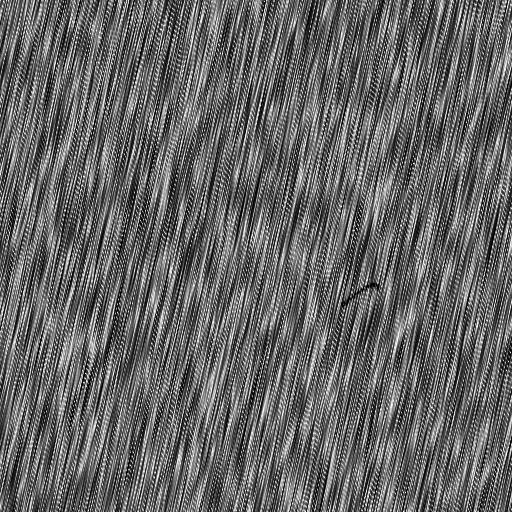DefectTypeC: (344, 281, 382, 311)
